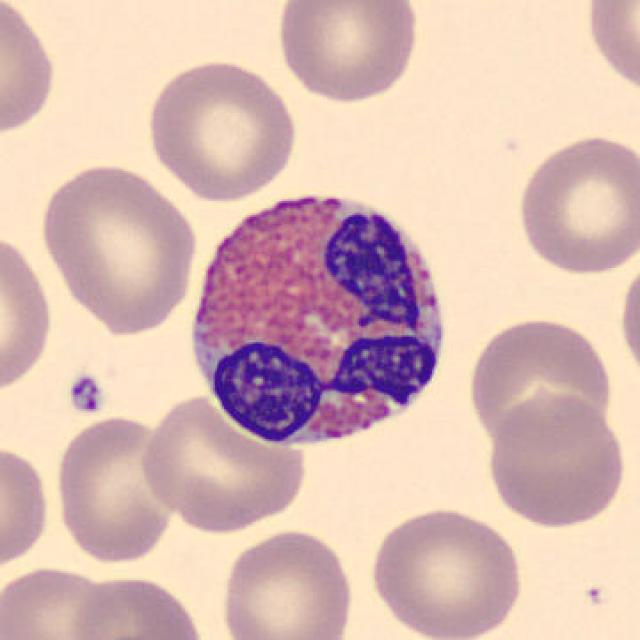Eosinophil: (174, 169, 460, 464)
Platelets: (64, 370, 107, 418)
RBC: (35, 158, 201, 336), (137, 391, 309, 536), (142, 54, 300, 202), (363, 502, 528, 640), (464, 312, 619, 451), (482, 388, 631, 531), (51, 413, 178, 566), (512, 130, 638, 278), (217, 525, 357, 640), (272, 0, 423, 106), (0, 226, 57, 400), (68, 571, 208, 640), (0, 562, 119, 640), (0, 0, 60, 143), (0, 437, 53, 578), (581, 0, 638, 100), (615, 247, 640, 388)
